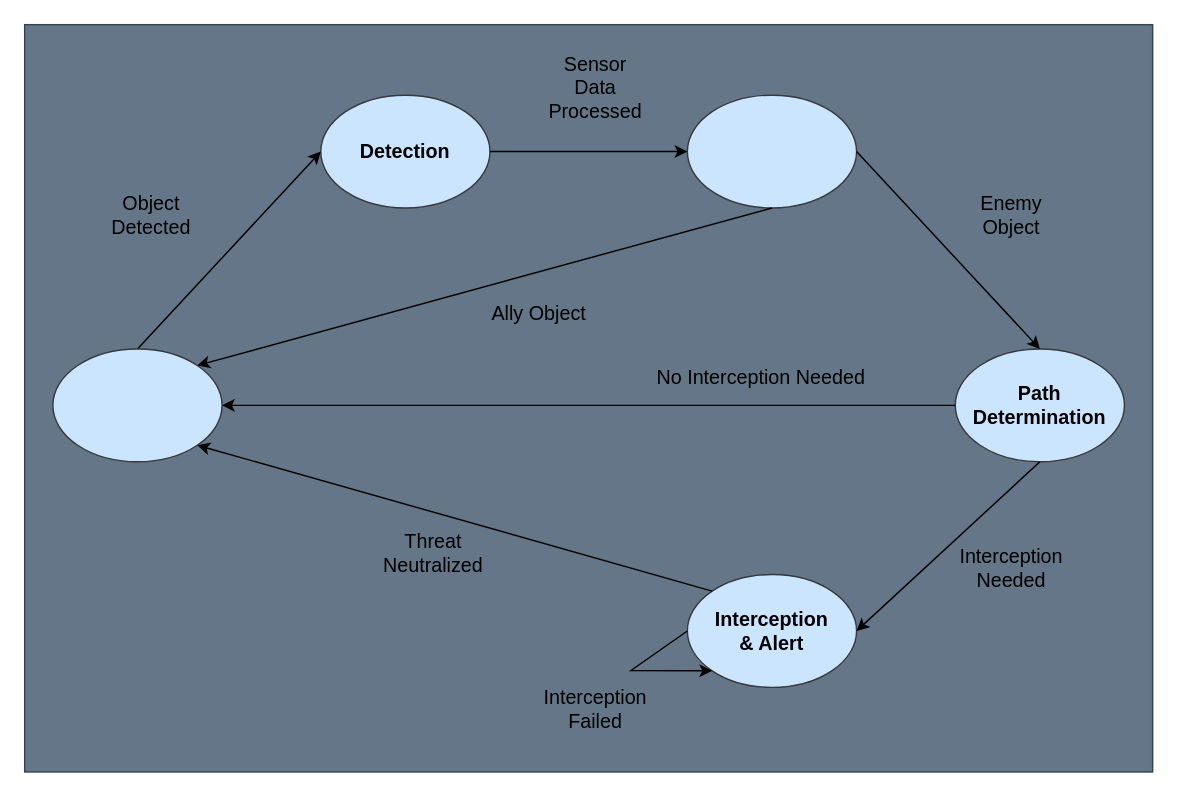
The diagram is 1177 pixels wide and 797 high, and some of its shapes have lost their labels. The shapes that lost their labels are listed below. From the top down, each one's centre as x and y in pixels, then its label:
At pixel 771 151: "Classification".
At pixel 136 405: "Idle".
